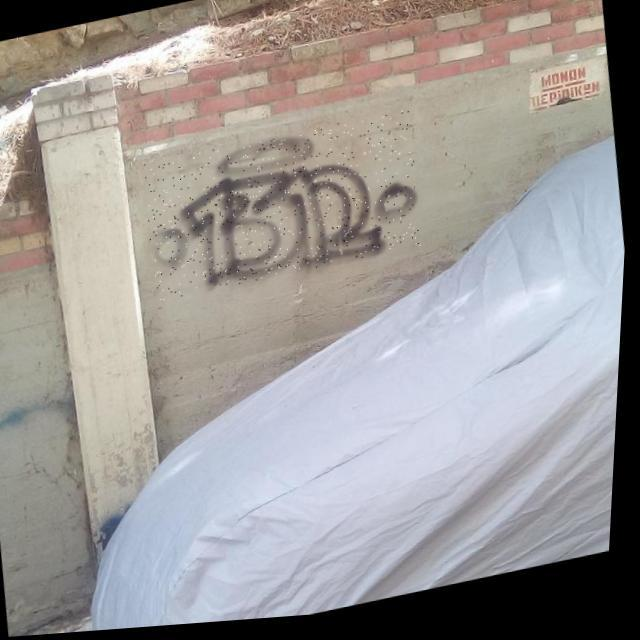-: (140, 113, 431, 306)
